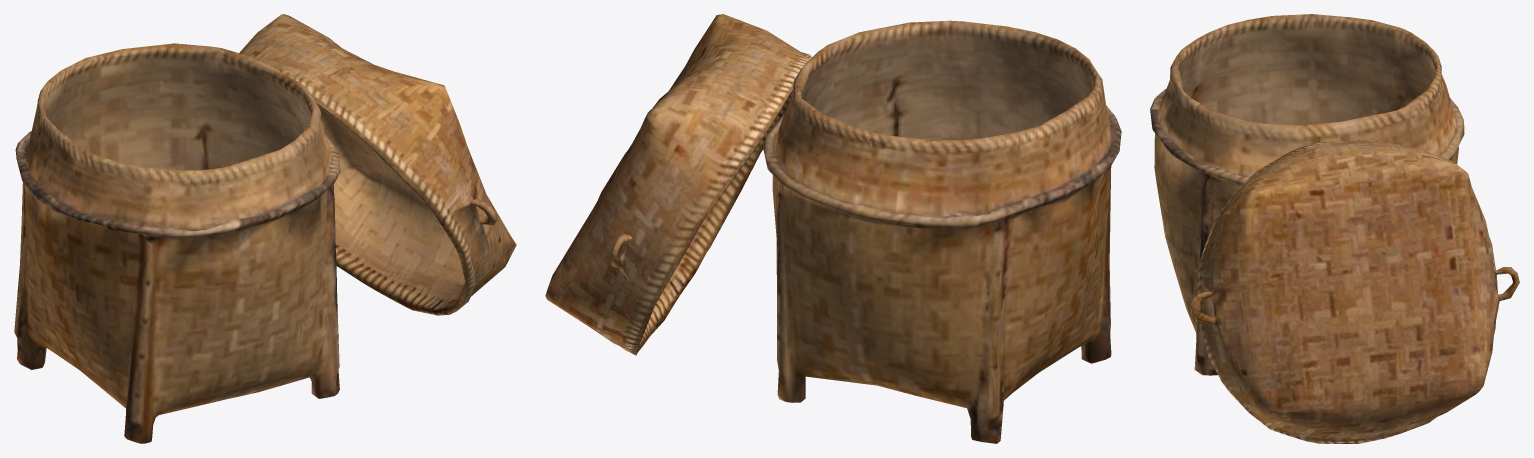
The model's file is wicker_basket_02.glb.
The picture shows the model from 3 angles, left to right: view 1: azimuth 30°, elevation 25°; view 2: azimuth 150°, elevation 25°; view 3: azimuth 270°, elevation 25°; orthographic projection. The views are drawn at different scales.
Visible parts, largest first — view 1: wicker_basket_02_base; view 2: wicker_basket_02_base; view 3: wicker_basket_02_base.
Part boxes in pixels (x1,y1,x2,y2): wicker_basket_02_base: (14, 14, 516, 443); wicker_basket_02_base: (545, 14, 1121, 443); wicker_basket_02_base: (1150, 14, 1519, 443).
Size of the model in its own units: 0.3467 by 0.2004 by 0.2541.
1 material, 1 textured.
